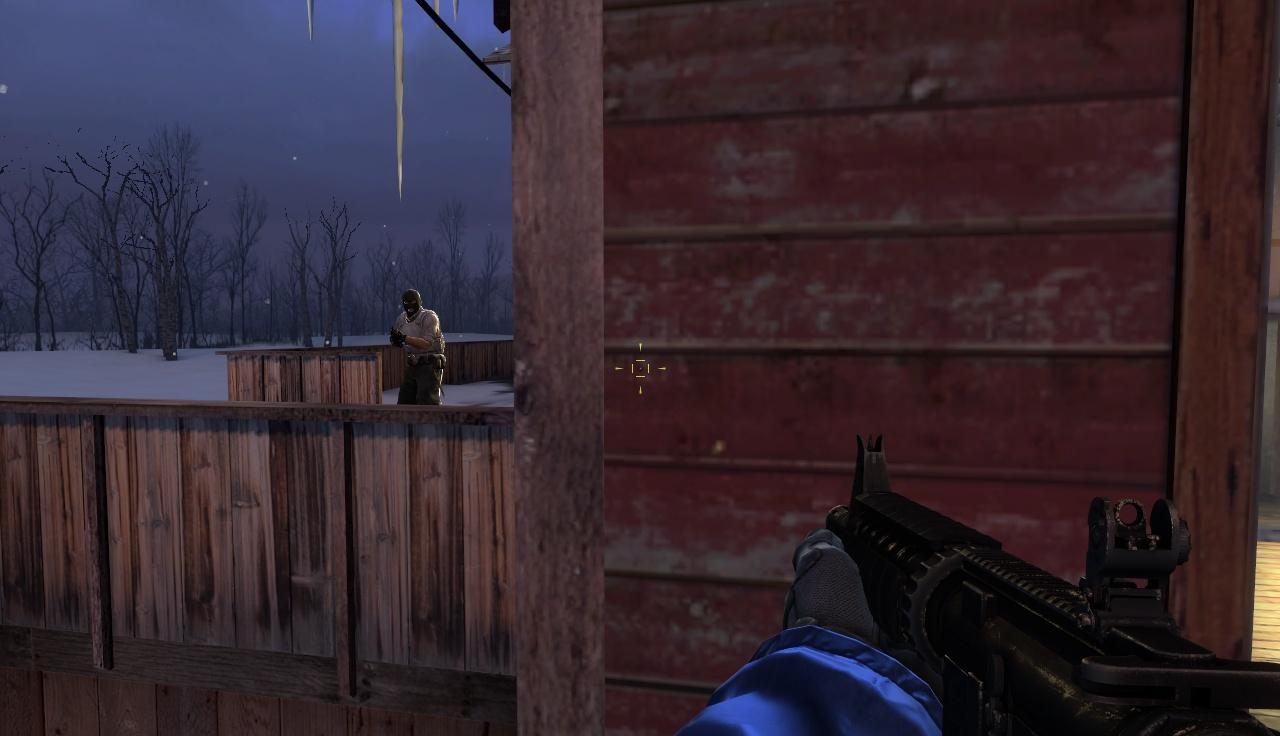rifle: (790, 433, 1280, 736)
tt: (393, 290, 445, 405)
tthead: (401, 291, 423, 314)
